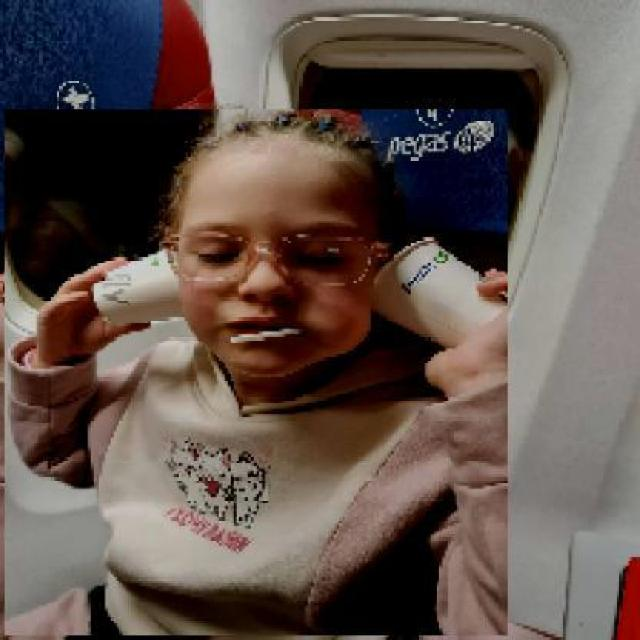child: (3, 109, 508, 637)
